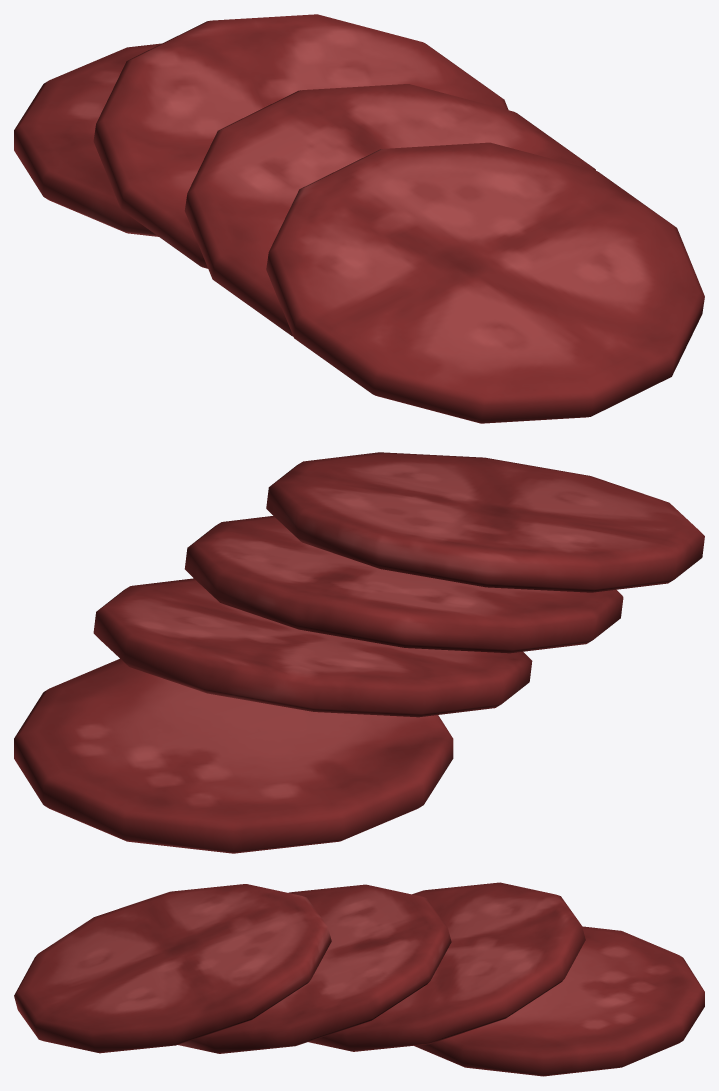
File: Msh_Tomate_Cortado_Grupo.fbx
3 renders of one model, top to bottom at view 1: azimuth 30°, elevation 25°; view 2: azimuth 150°, elevation 25°; view 3: azimuth 270°, elevation 25°, orthographic. The views are drawn at different scales.
Visible parts, largest first — view 1: MSH_Tomates_Cortados_Grupo; view 2: MSH_Tomates_Cortados_Grupo; view 3: MSH_Tomates_Cortados_Grupo.
Boxes of the visible parts, bbox=[...] form: MSH_Tomates_Cortados_Grupo: bbox=[14, 14, 704, 423]; MSH_Tomates_Cortados_Grupo: bbox=[14, 452, 704, 853]; MSH_Tomates_Cortados_Grupo: bbox=[14, 882, 704, 1076].
Size of the model in its own units: 12.43 by 26.59 by 3.83.
1 material, 1 textured.
